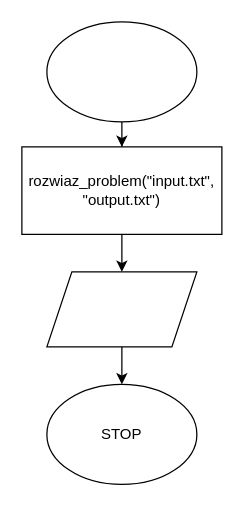
The diagram is 244 pixels wide and 506 high, and some of its shapes have lost their labels. Each missing label, with the box of its shape:
return 0: (46, 271, 197, 347)
START: (46, 21, 197, 122)
